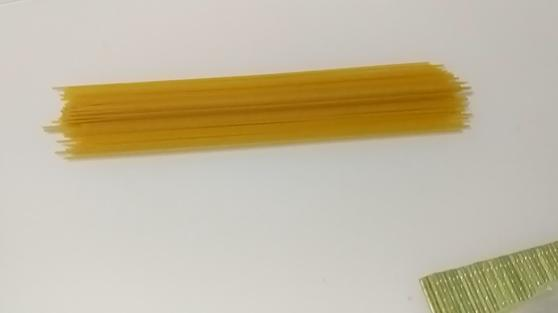spaghetti: (32, 61, 502, 165)
